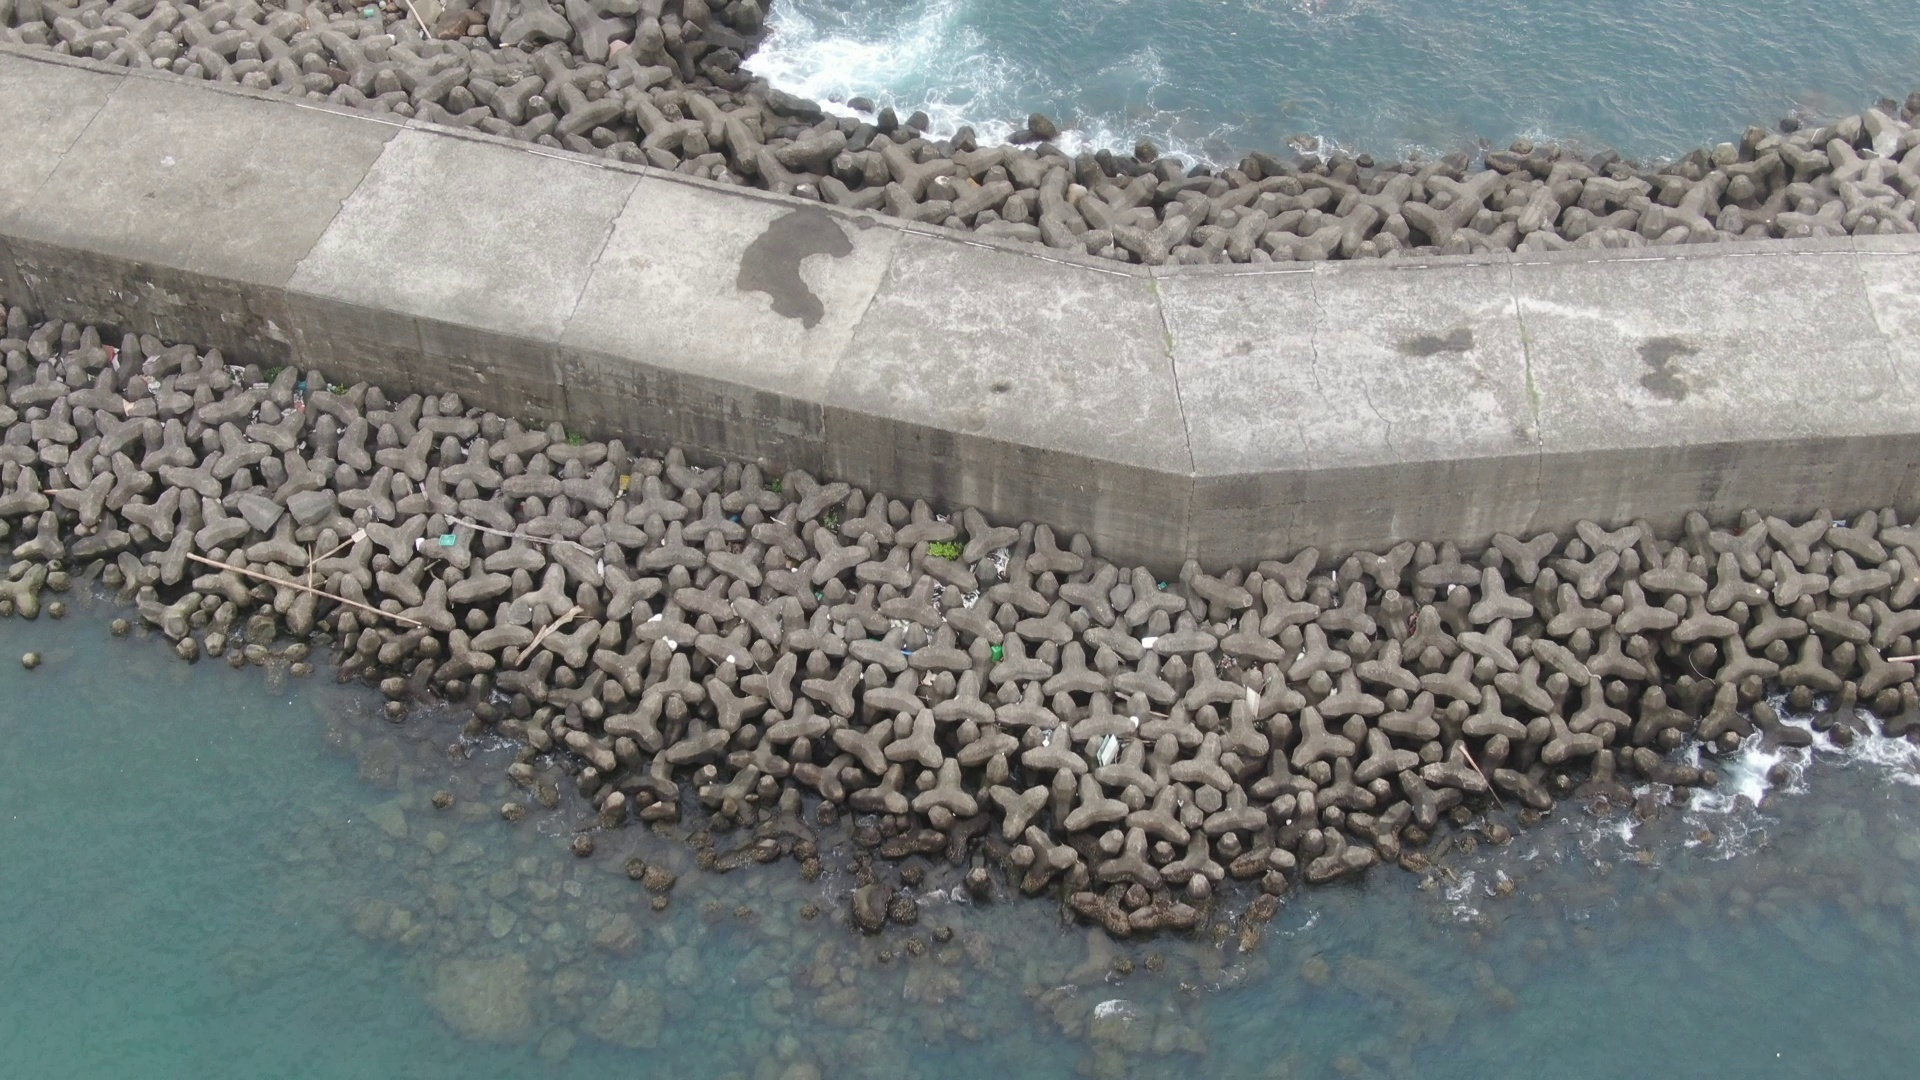garbage: (1091, 724, 1126, 774), (978, 638, 1010, 674), (426, 531, 472, 555)
